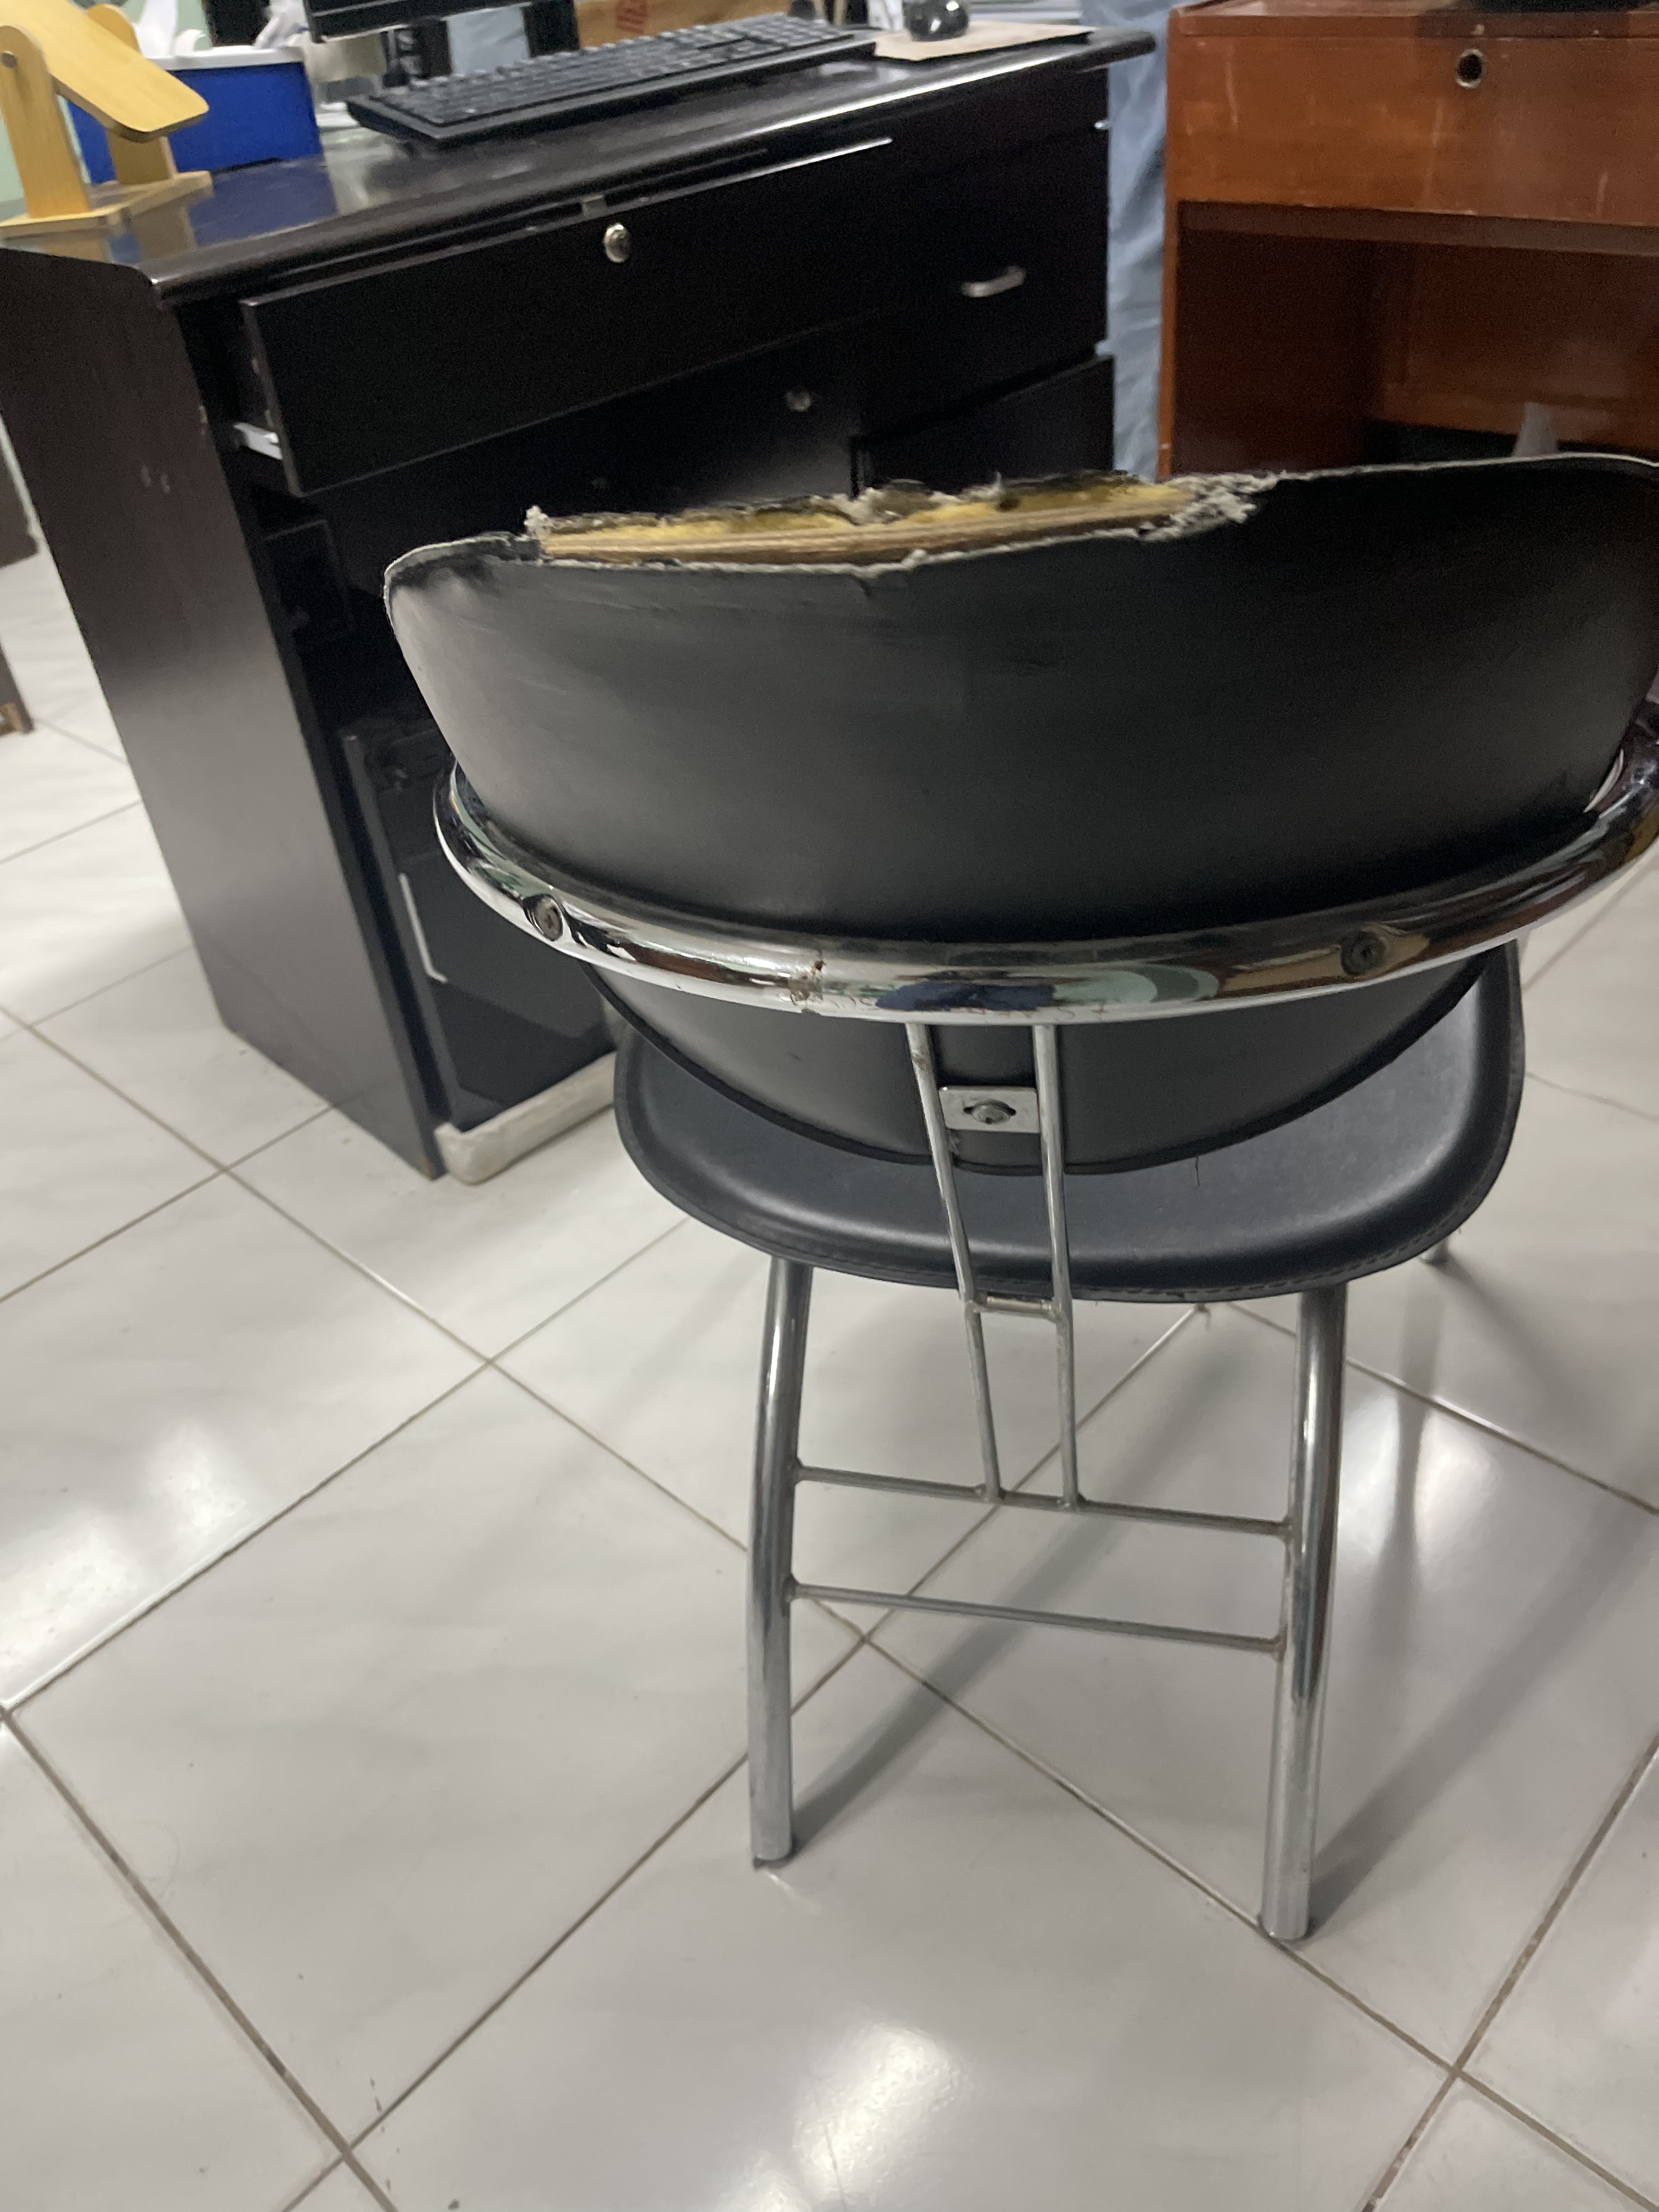chair1: (376, 439, 1659, 1946)
